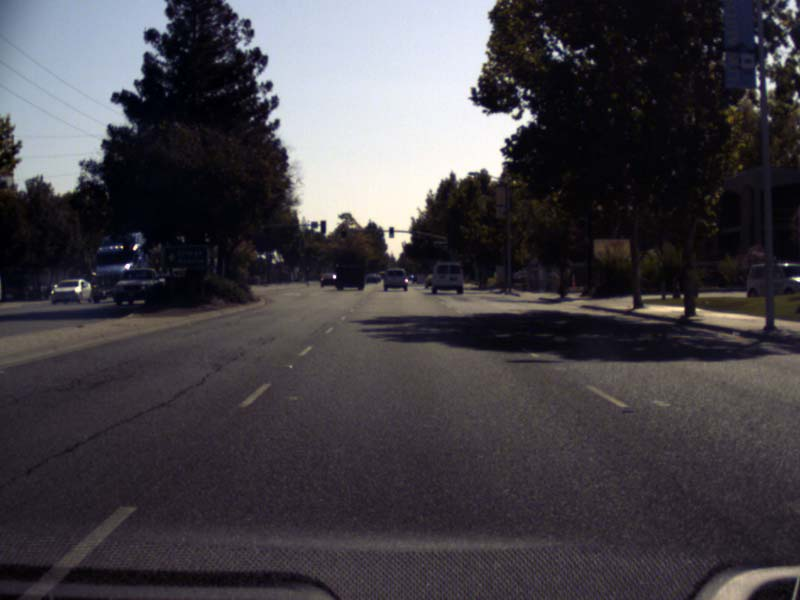Yellow: (340, 227, 346, 237)
